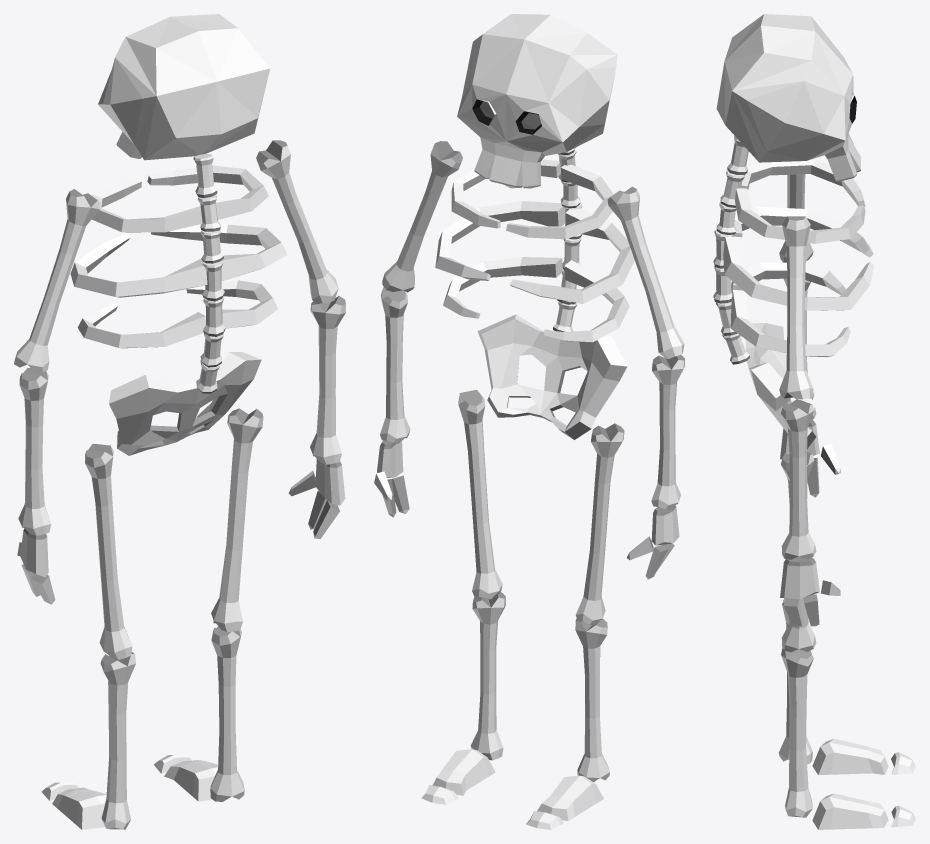
File: skeleton.FBX
3 views of the same model, side by side, from view 1: azimuth 30°, elevation 25°; view 2: azimuth 150°, elevation 25°; view 3: azimuth 270°, elevation 25° (orthographic). The views are drawn at different scales.
Parts seen in each view (by area): view 1: head, bassin, jambeD1, jambeG1, brasG1, jambeG2, jambeD2, brasD1, brasD2, brasG2, cote002, cote003 (+13 smaller); view 2: head, bassin, jambeD1, jambeG1, brasG1, jambeD2, brasD1, jambeG2, brasG2, cote003, brasD2, cote002 (+8 smaller); view 3: head, brasD1, jambeD2, brasD2, cote003, bassin, piedD1, piedG1, cote005, cote001, cote, cote002 (+16 smaller).
Boxes of the visible parts, x1,y1,x2,y2 form: head: [98, 14, 269, 160]; bassin: [109, 352, 261, 455]; jambeD1: [211, 408, 263, 631]; jambeG1: [85, 444, 132, 659]; brasG1: [14, 189, 100, 373]; jambeG2: [100, 652, 135, 829]; jambeD2: [210, 626, 244, 801]; brasD1: [256, 140, 338, 304]; brasD2: [310, 296, 345, 464]; brasG2: [18, 368, 51, 535]; cote002: [70, 233, 207, 297]; cote003: [151, 224, 287, 280]; head: [457, 14, 617, 188]; bassin: [477, 314, 627, 439]; jambeD1: [458, 389, 502, 599]; jambeG1: [576, 423, 624, 625]; brasG1: [607, 186, 684, 358]; jambeD2: [470, 592, 505, 760]; brasD1: [382, 141, 462, 292]; jambeG2: [575, 618, 609, 782]; brasG2: [651, 355, 684, 509]; cote003: [435, 201, 565, 280]; brasD2: [380, 287, 410, 443]; cote002: [510, 208, 634, 303]; head: [716, 14, 860, 181]; brasD1: [779, 216, 813, 399]; jambeD2: [781, 647, 813, 817]; brasD2: [781, 399, 816, 559]; cote003: [723, 236, 873, 310]; bassin: [745, 323, 815, 448]; piedD1: [812, 793, 888, 829]; piedG1: [812, 738, 888, 774]; cote005: [730, 289, 850, 357]; cote001: [735, 188, 865, 243]; cote: [741, 159, 865, 206]; cote002: [733, 206, 873, 257].
Size of the model in its own units: 33.86 by 79.13 by 18.81.
